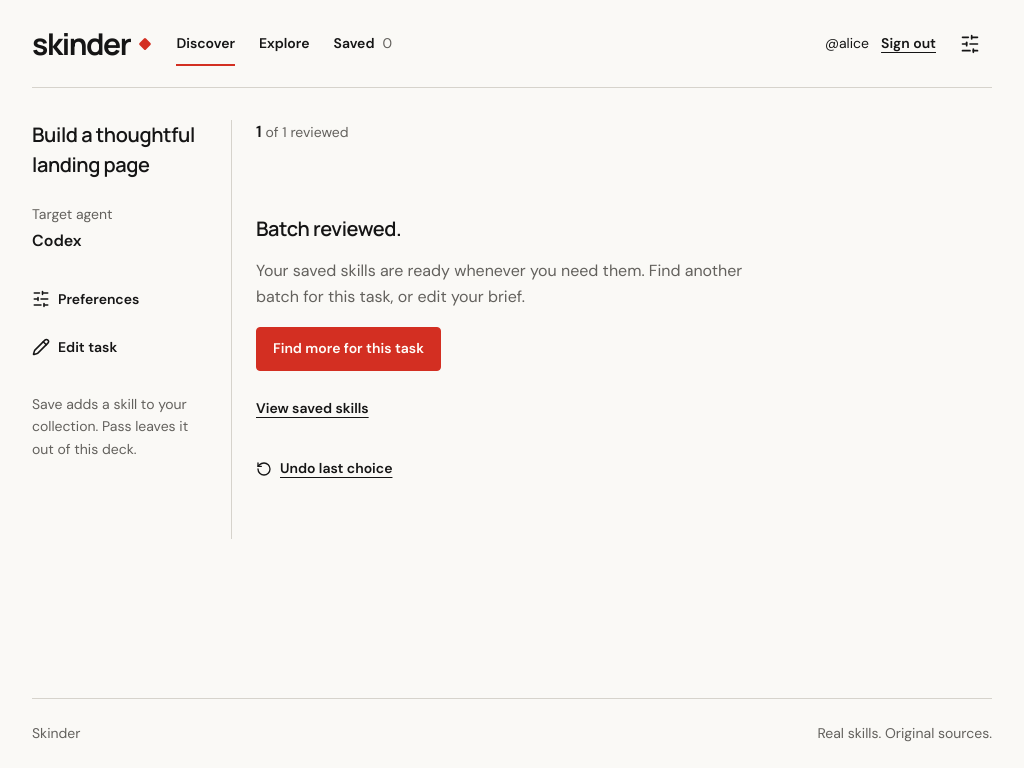
skill discovery › can find another batch when the reviewed catalog page has no candidates left
Click the button "Find more for this task".
click(348, 349)  # box [256,327,441,371]
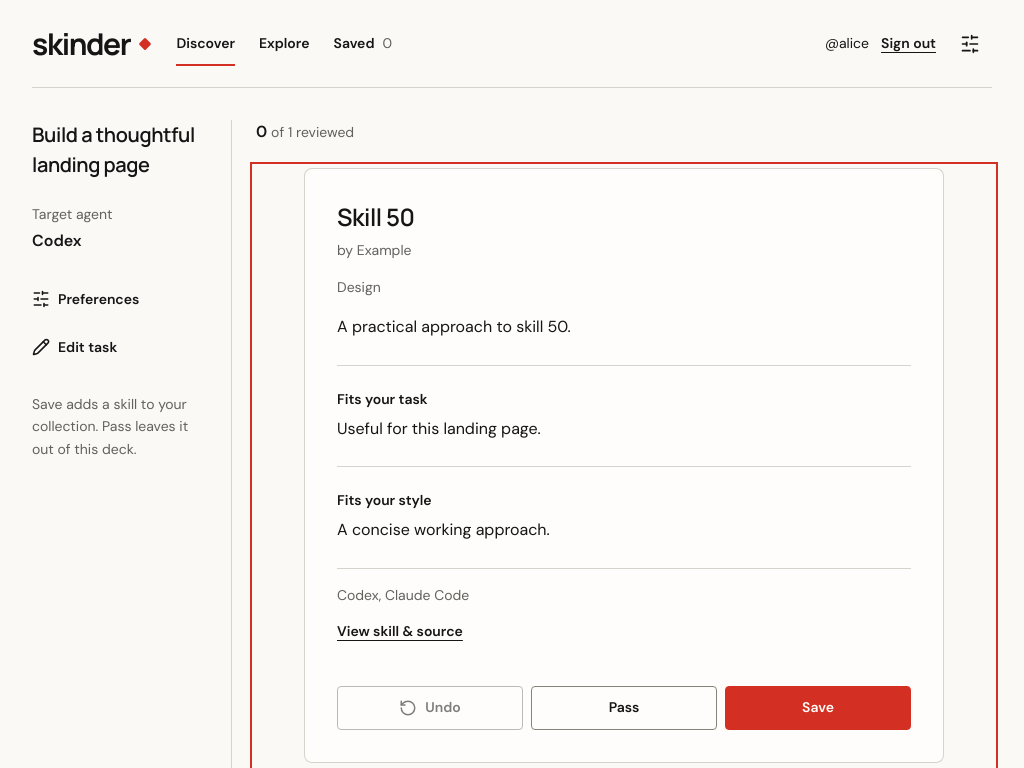
Check: the heading "Skill 50" is shown, box [337,200,414,233]
